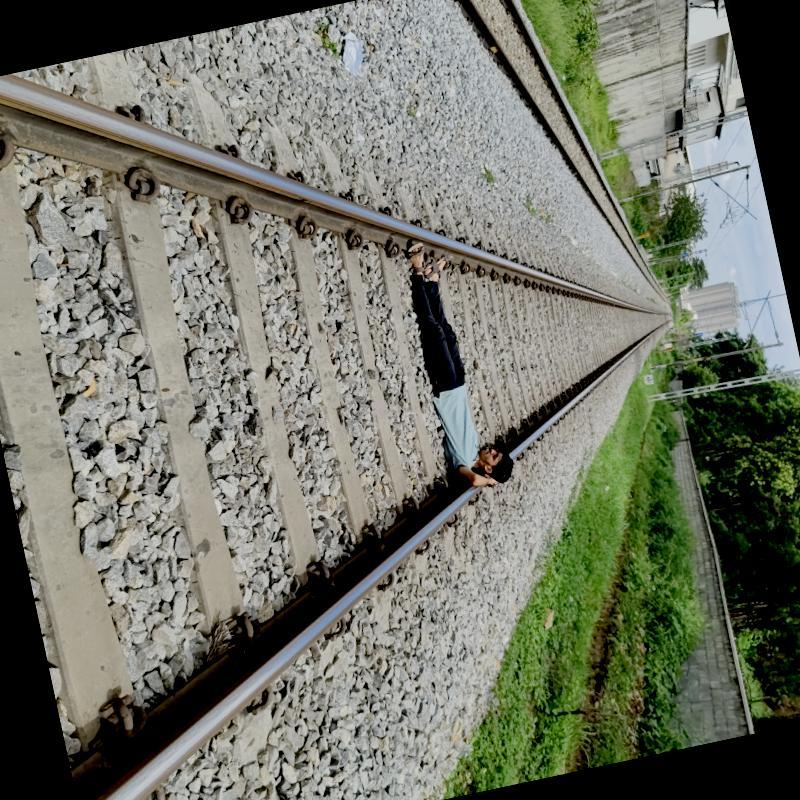sleeping: (392, 216, 524, 505)
